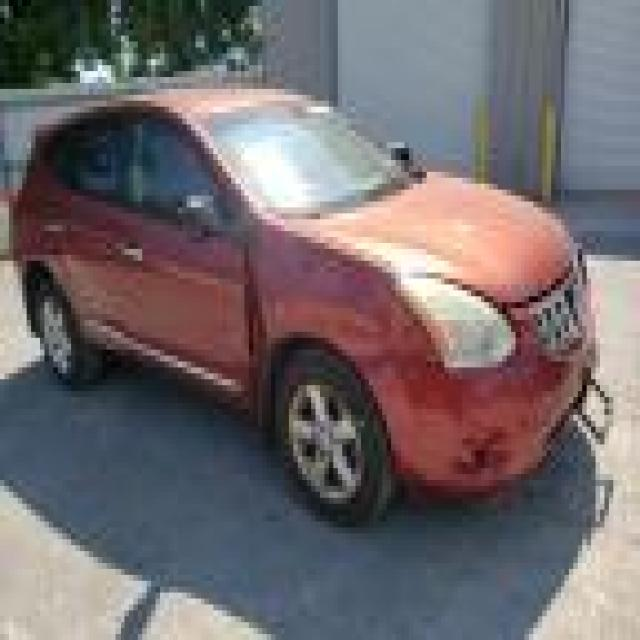minor: (435, 422, 550, 508)
